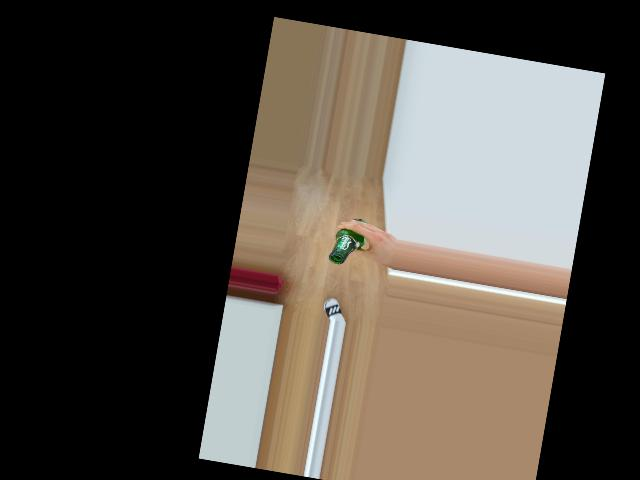beer: (327, 215, 369, 268)
